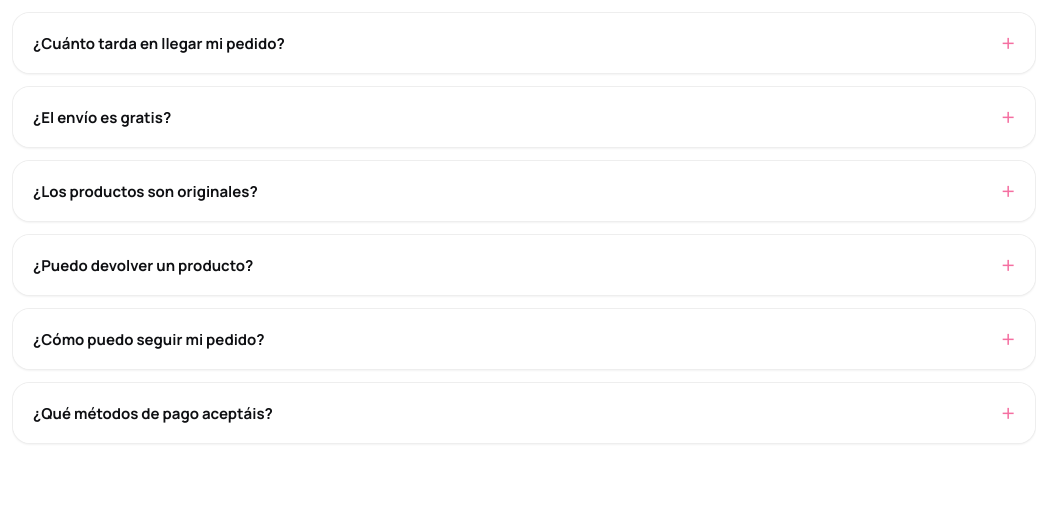
Test: FaqAccordion › solo mantiene una respuesta abierta a la vez
Click the button "¿Cuánto tarda en llegar mi pedido? +" at (159, 43), box x1=13 y1=13 x2=1035 y2=73
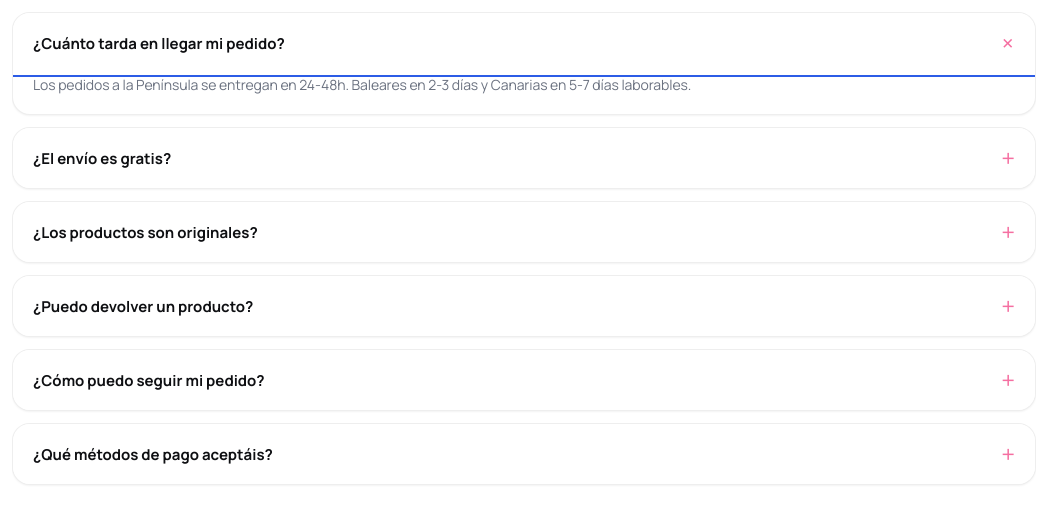
Click the button "¿El envío es gratis? +" at (102, 158), box x1=13 y1=128 x2=1035 y2=188
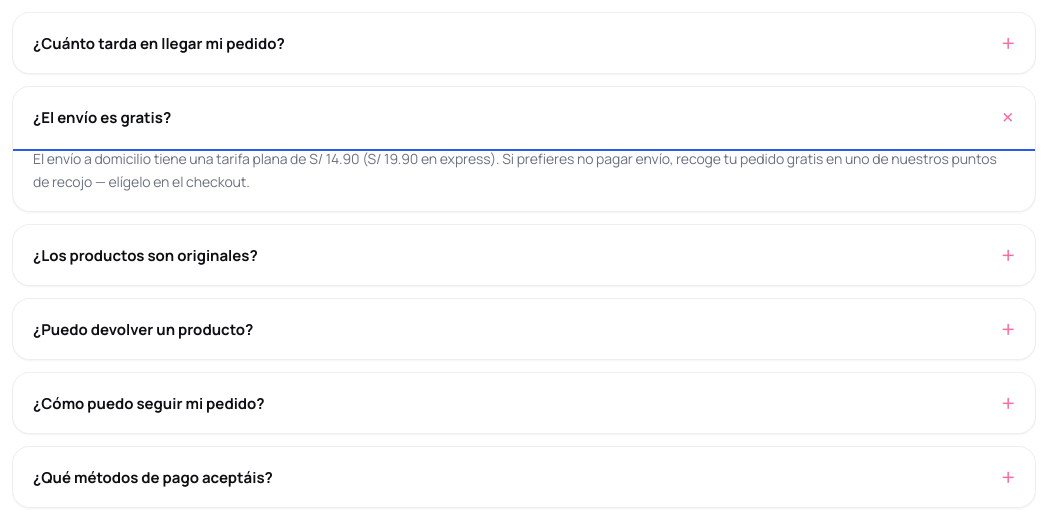
Result: the text "El envío a domicilio tiene una tarifa plana de S/ 14.90 (S/ 19.90 en express). Si prefieres no pagar envío, recoge tu pe" is shown at x1=33 y1=149 x2=997 y2=191
Result: the text "Los pedidos a la Península se entregan en 24-48h. Baleares en 2-3 días y Canarias en 5-7 días laborables." is gone
